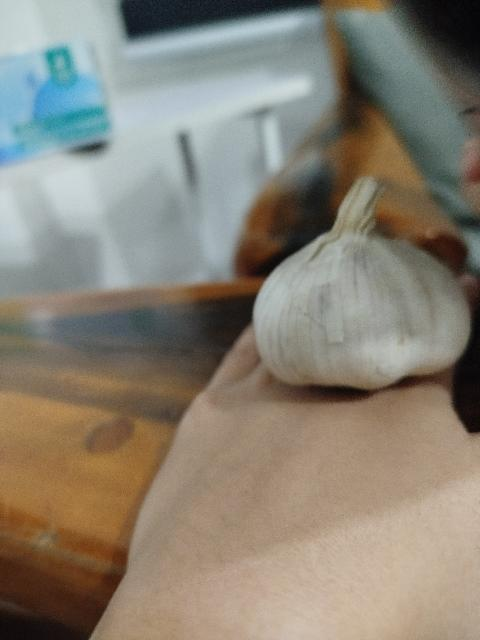garlic: (252, 175, 472, 391)
